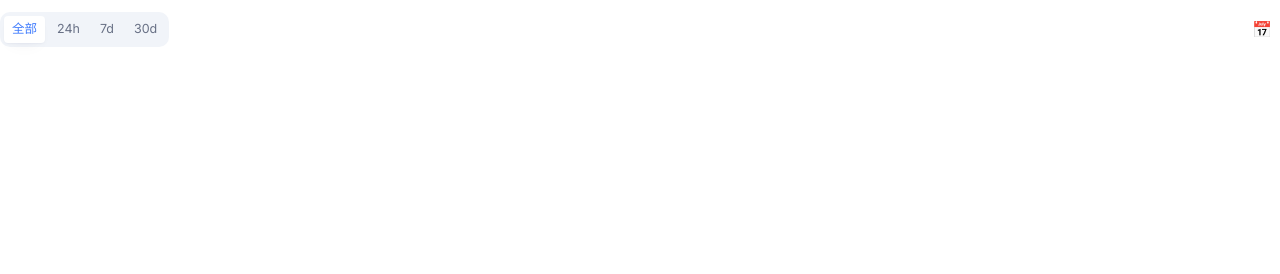
Test: TimeRangeFilter › AC-001: 在预设模式下点击日历按钮，RangePicker 保持打开状态，展示开始/结束时间及应用按钮
Click the button with test id "time-custom-button" at (1262, 29), box [1248,15,1276,43]
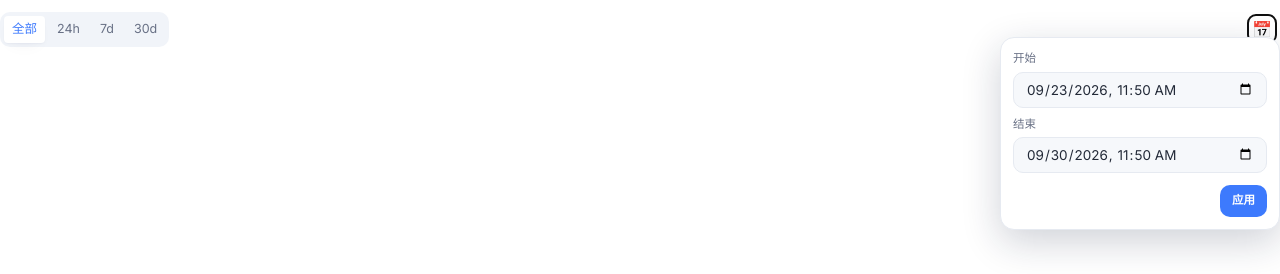
Expected: the button "应用" is shown, [1220,185,1267,217]
Expected: the text "开始" is shown, [1013,50,1267,108]
Expected: the text "结束" is shown, [1013,116,1267,173]
